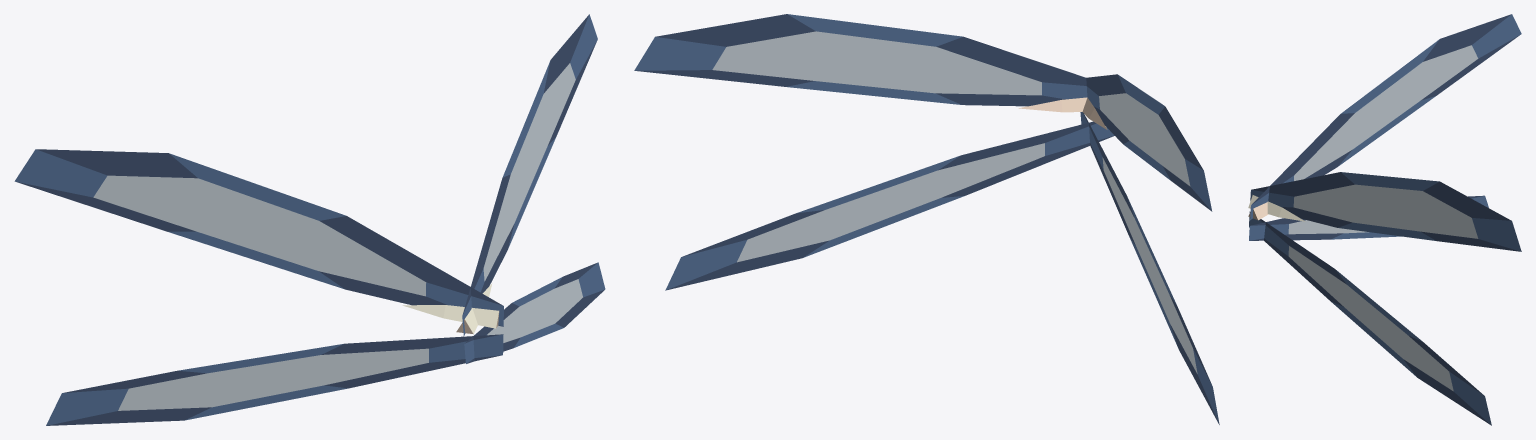
File: wings_px_dragonfly.glb
3 renders of one model, left to right at view 1: azimuth 30°, elevation 25°; view 2: azimuth 150°, elevation 25°; view 3: azimuth 270°, elevation 25°, orthographic. The views are drawn at different scales.
Parts seen in each view (by area): view 1: Wing_R, Wing_L; view 2: Wing_L, Wing_R; view 3: Wing_L, Wing_R.
Part boxes in pixels (left/top/right/bottom): Wing_R: left=14, top=149, right=503, bottom=425; Wing_L: left=456, top=14, right=605, bottom=363; Wing_L: left=634, top=14, right=1114, bottom=290; Wing_R: left=1080, top=74, right=1219, bottom=424; Wing_L: left=1248, top=172, right=1521, bottom=425; Wing_R: left=1248, top=14, right=1521, bottom=240.
Bounding box in the file's own units: 0.2559 × 0.1157 × 0.1358.
Materials: 1 (1 with a texture image).
